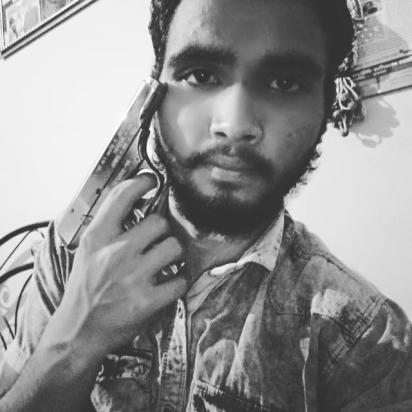Gun: (53, 74, 189, 289)
